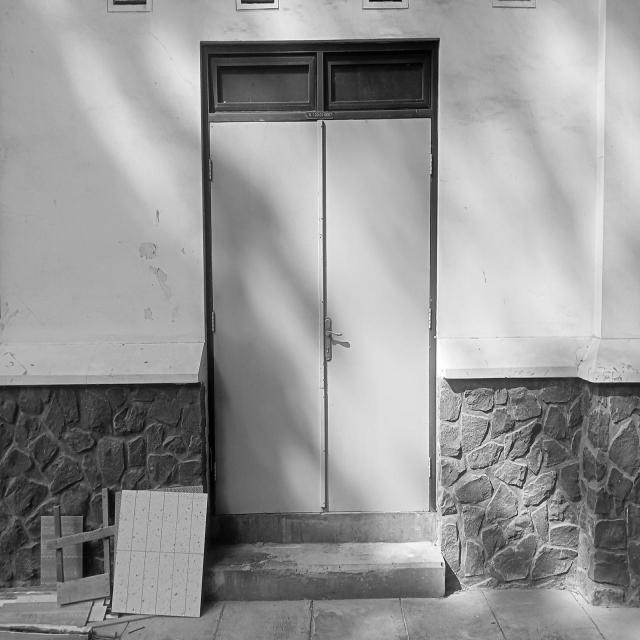door: (206, 120, 434, 516)
